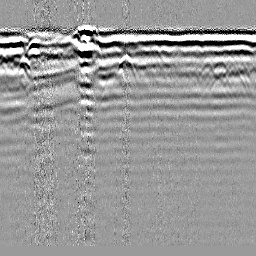cavity: (114, 52, 139, 78)
